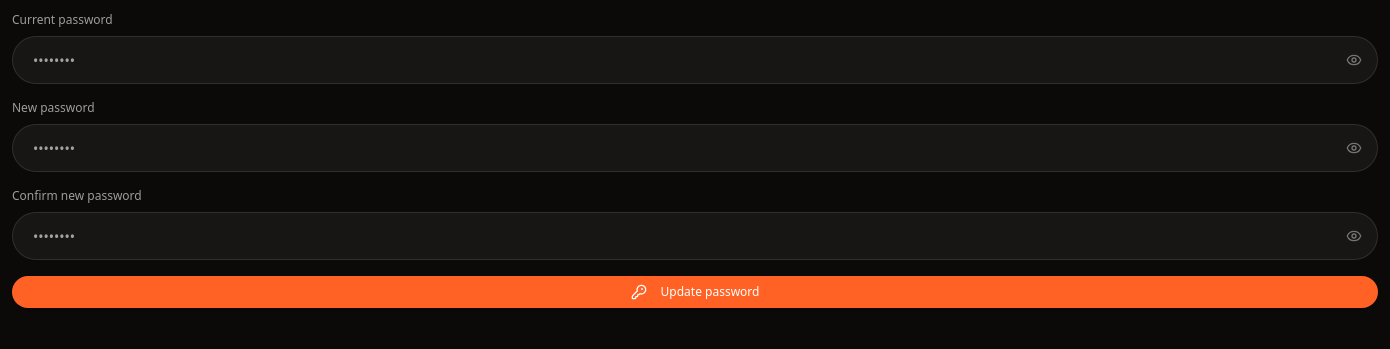
PasswordChangeForm submission › shows validation error when passwords do not match
This screenshot has width=1390, height=349.
Type "OldPass1!" into the password field labelled "Current password" at (695, 60), box [12,36,1378,84]
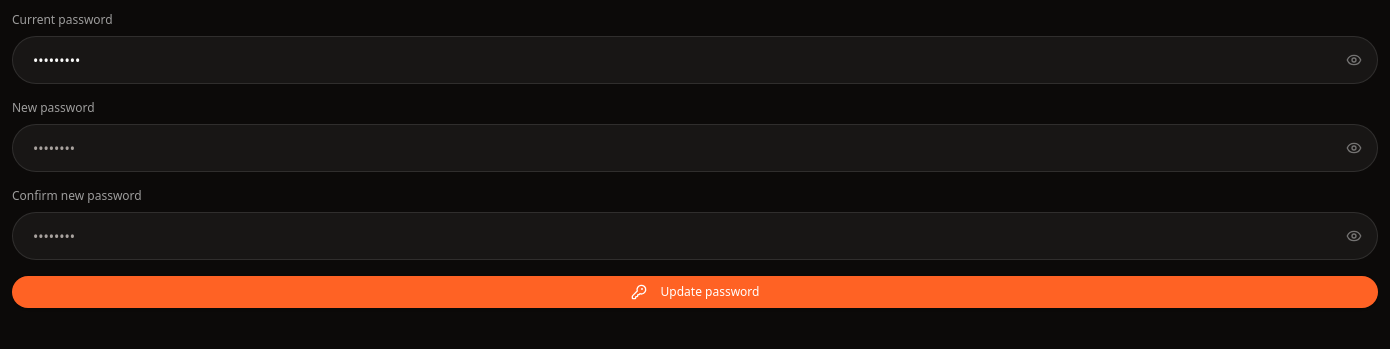
Type "NewPass1!LongEnough" into the password field labelled "New password" at (695, 148), box [12,124,1378,172]
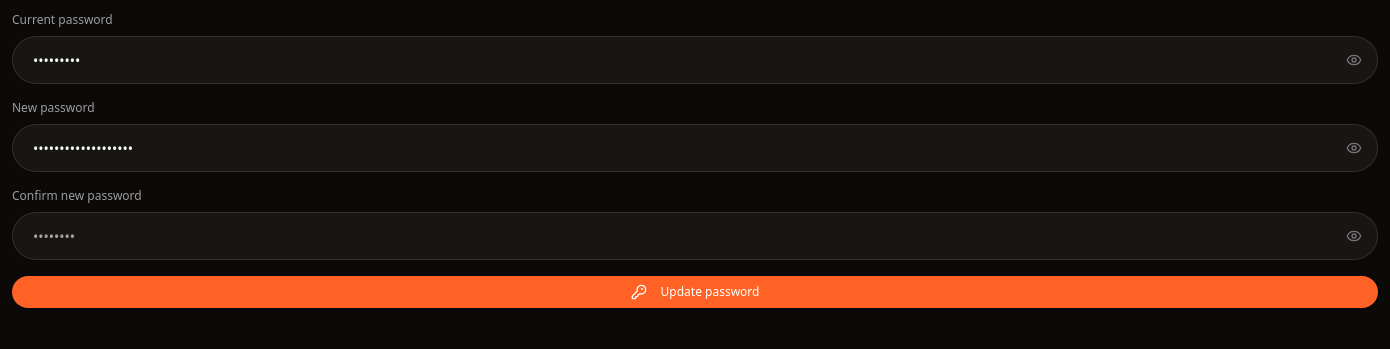
Type "DifferentPass!" into the password field labelled "Confirm new password" at (695, 236), box [12,212,1378,260]
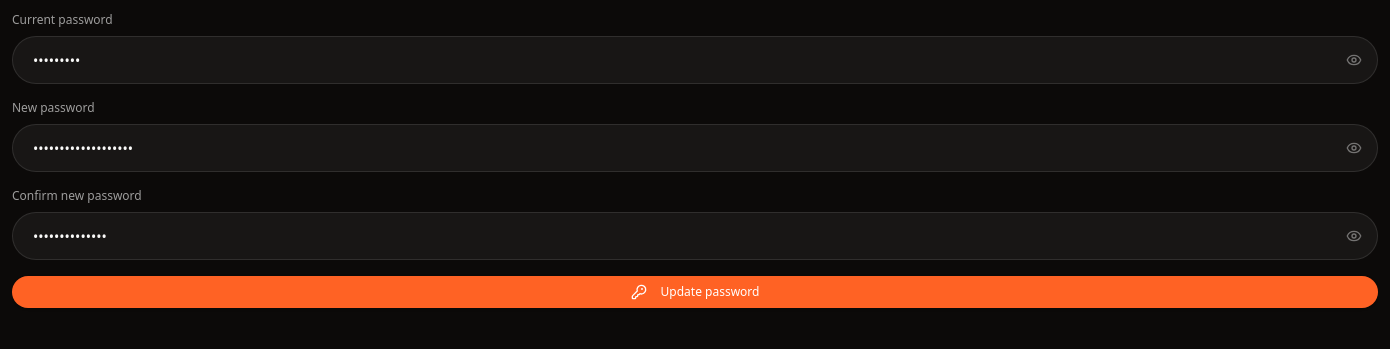
Click the button "Update password" at (695, 292), box [12,276,1378,308]
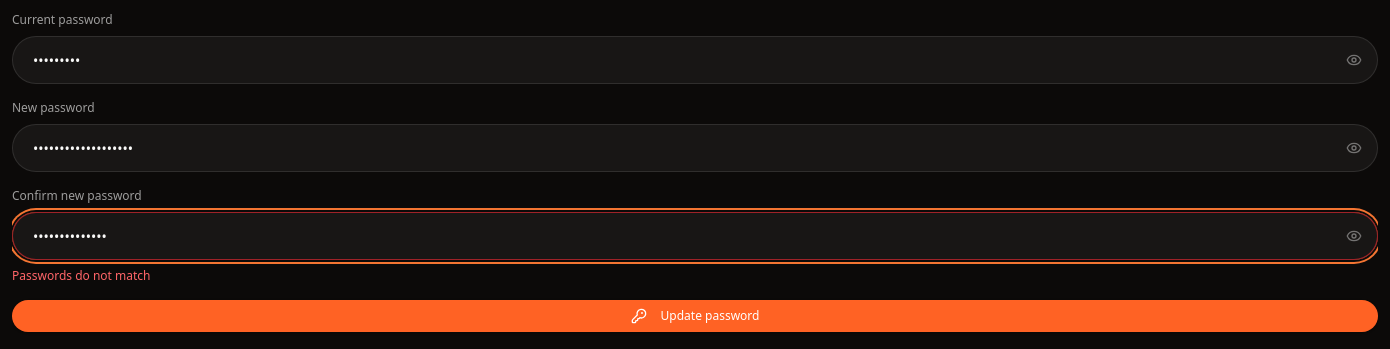
Expected: the text "Passwords do not match" is shown, [12,267,150,284]
